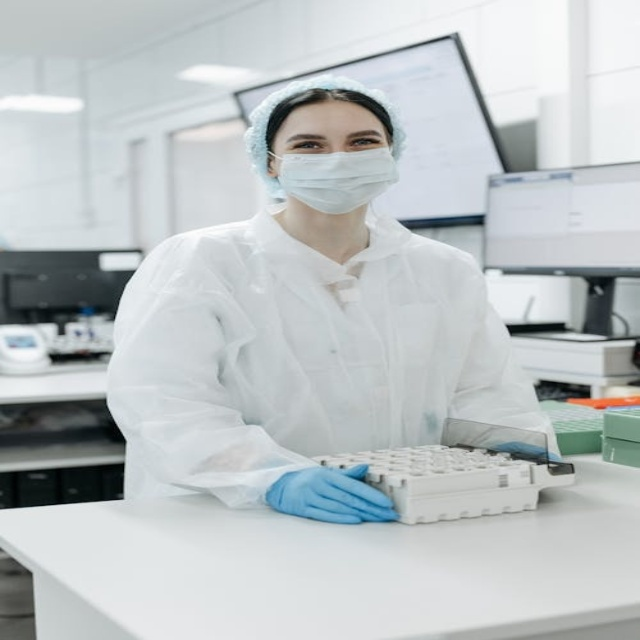Guantes: (263, 463, 399, 524), (488, 442, 562, 462)
Mascara: (268, 146, 399, 214)
Sin_gafas: (273, 121, 392, 152)
